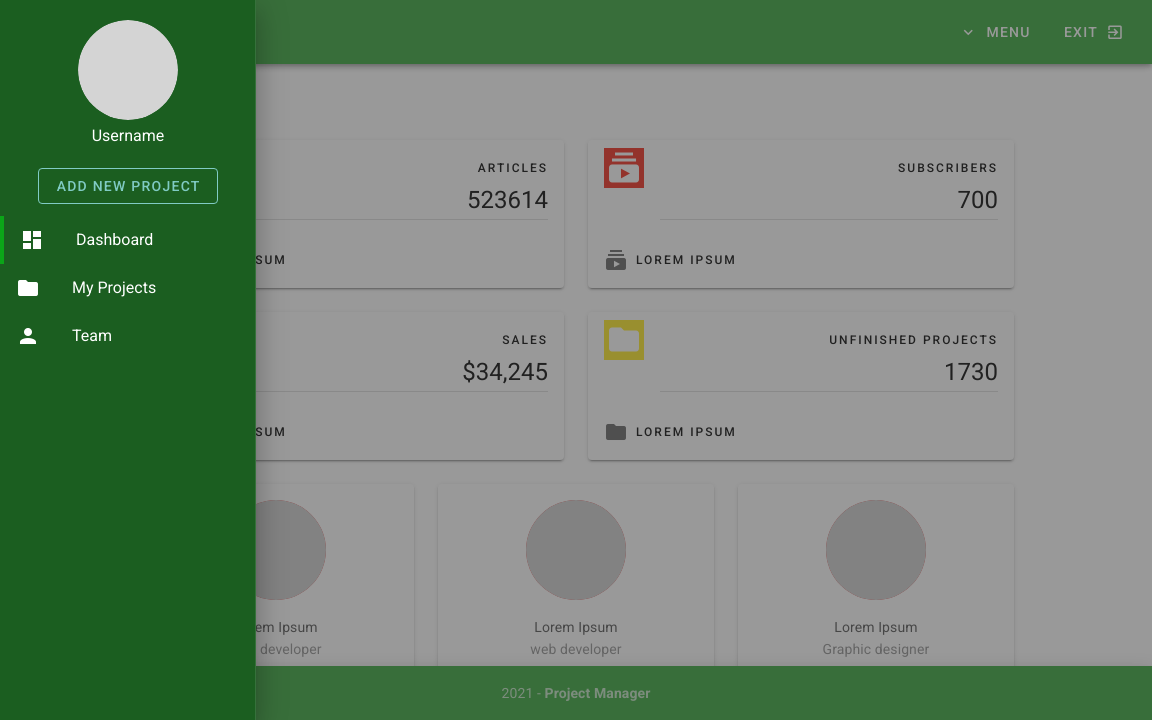
Main › go to Team through sidebar menu
Click the link "Team". click: (92, 336)
box: [16,324,112,348]
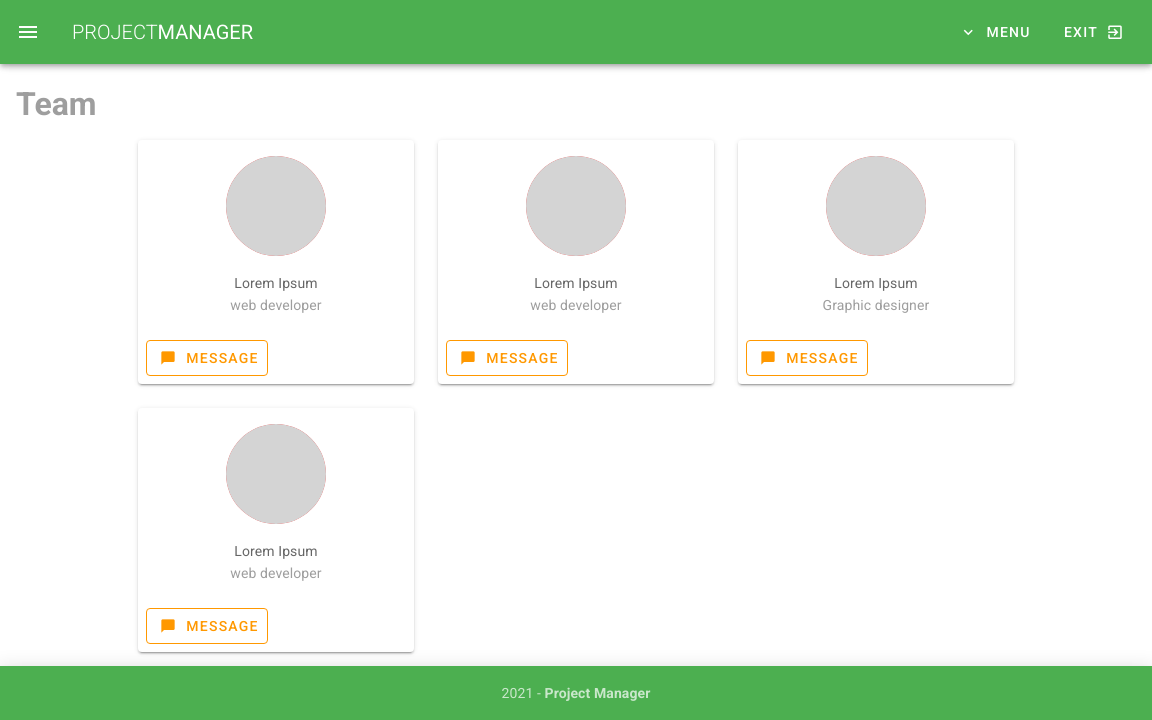
Expected: the 1st button "Message" is shown, [146,340,268,376]
Result: the button "Add new project" is gone
